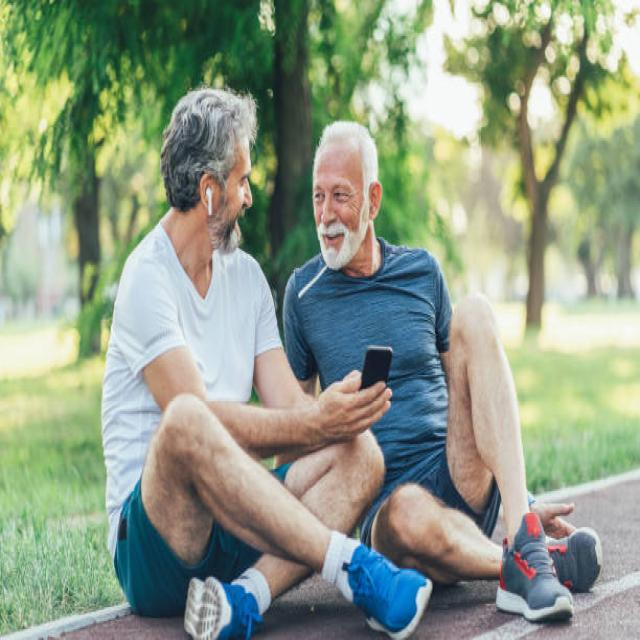airpods: (204, 188, 213, 219)
